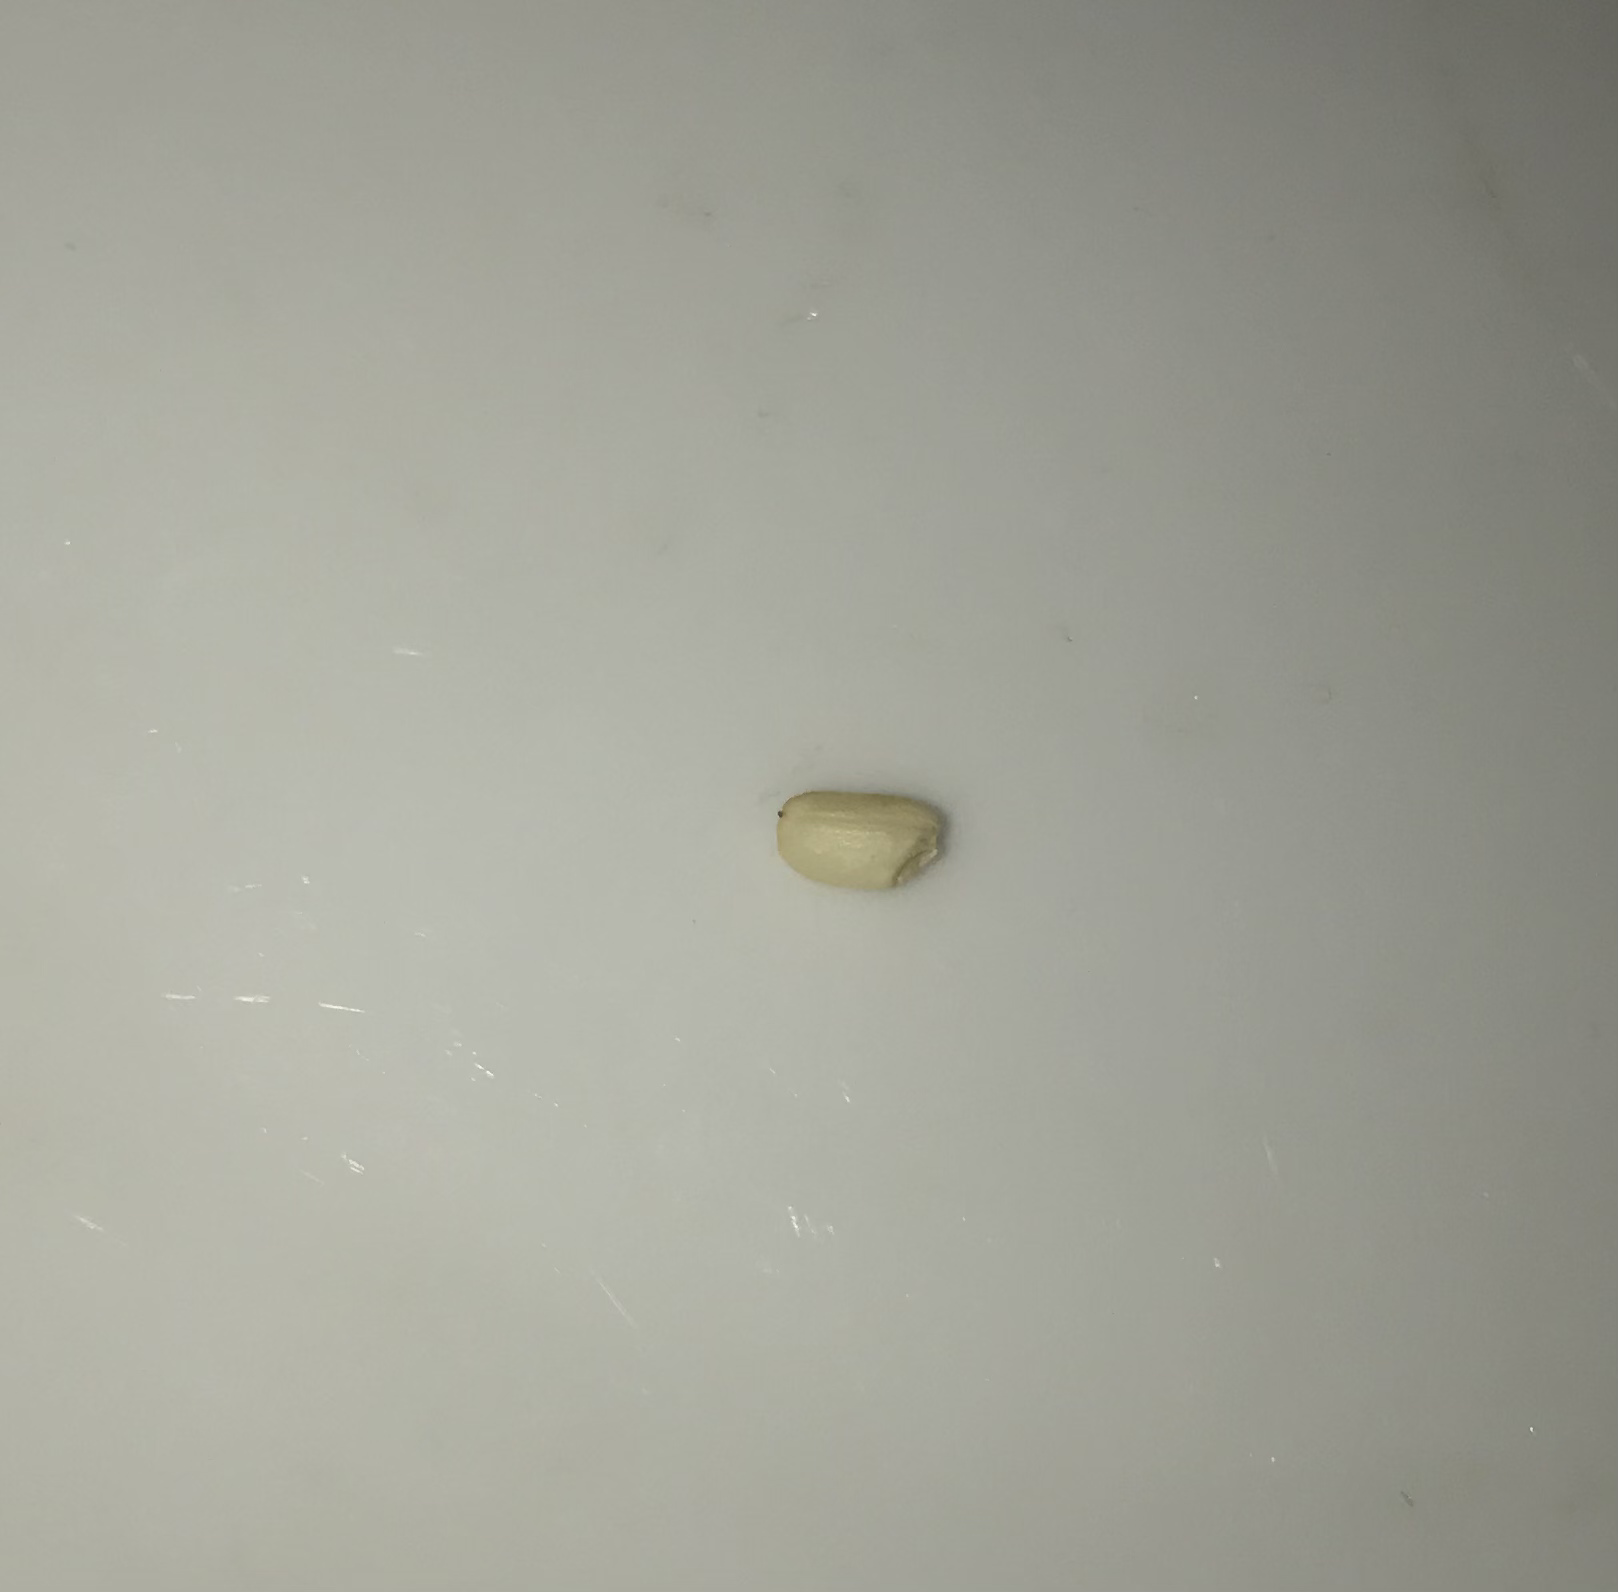Gao Lut Bac: (768, 771, 964, 897)
